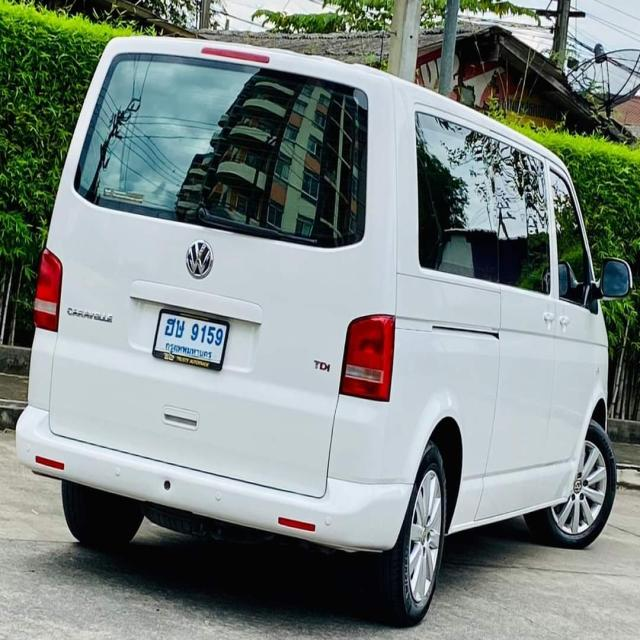license_plate: (152, 304, 228, 375)
